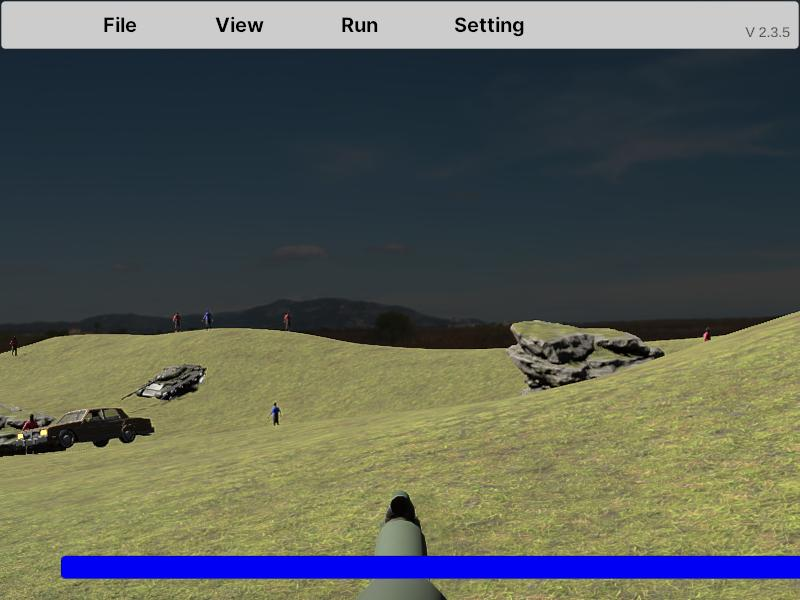Tank: (0, 401, 61, 462), (120, 364, 206, 402)
car: (39, 407, 155, 449)
